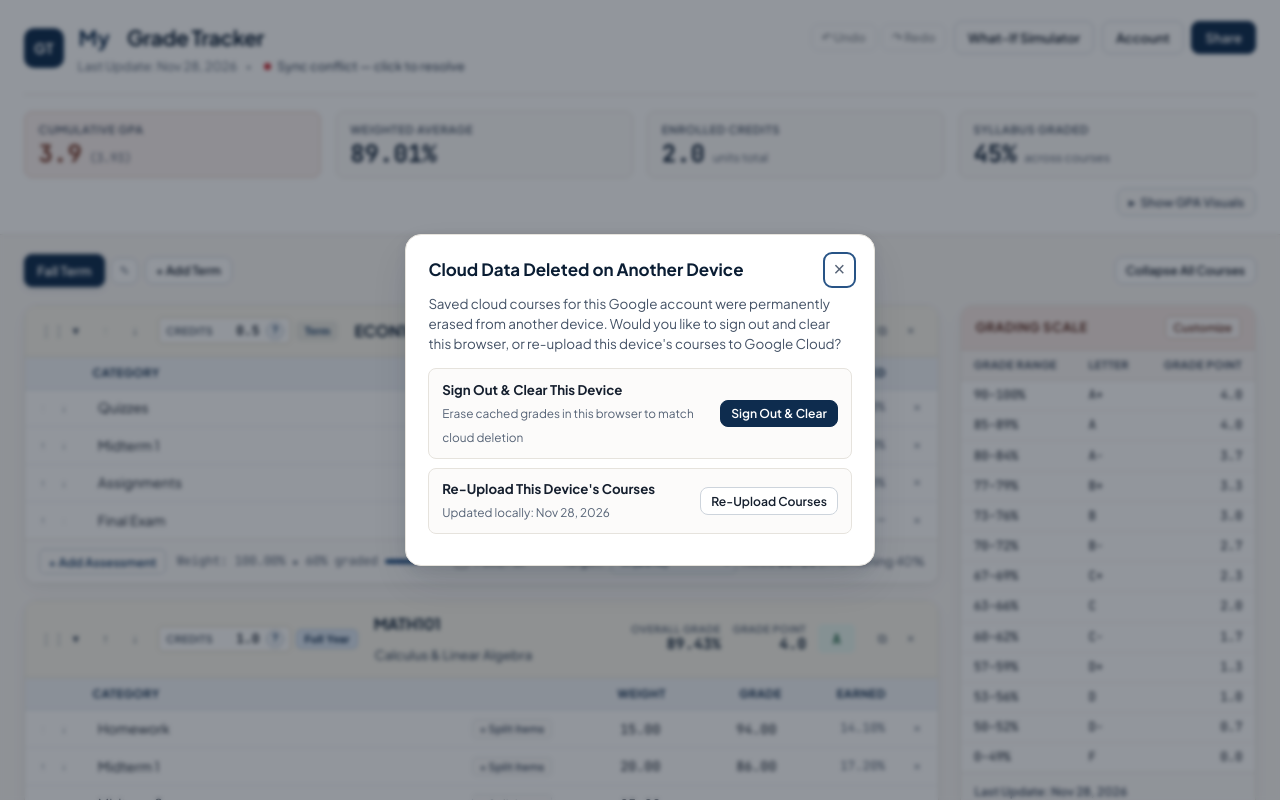
Scenario: Grade Tracker React Application (M1 + M1.1 + Firebase Cloud Sync) › keeps SyncConflictModal mounted inside <App /> and displays inline error when resolveConflict fails in flight (Cluster 2 QA)
Expected: the heading "Cloud Data Deleted on Another Device" is shown, 428,257 -> 744,283
Click the button "Re-Upload Courses" at [769, 501], box 700,487 -> 838,515
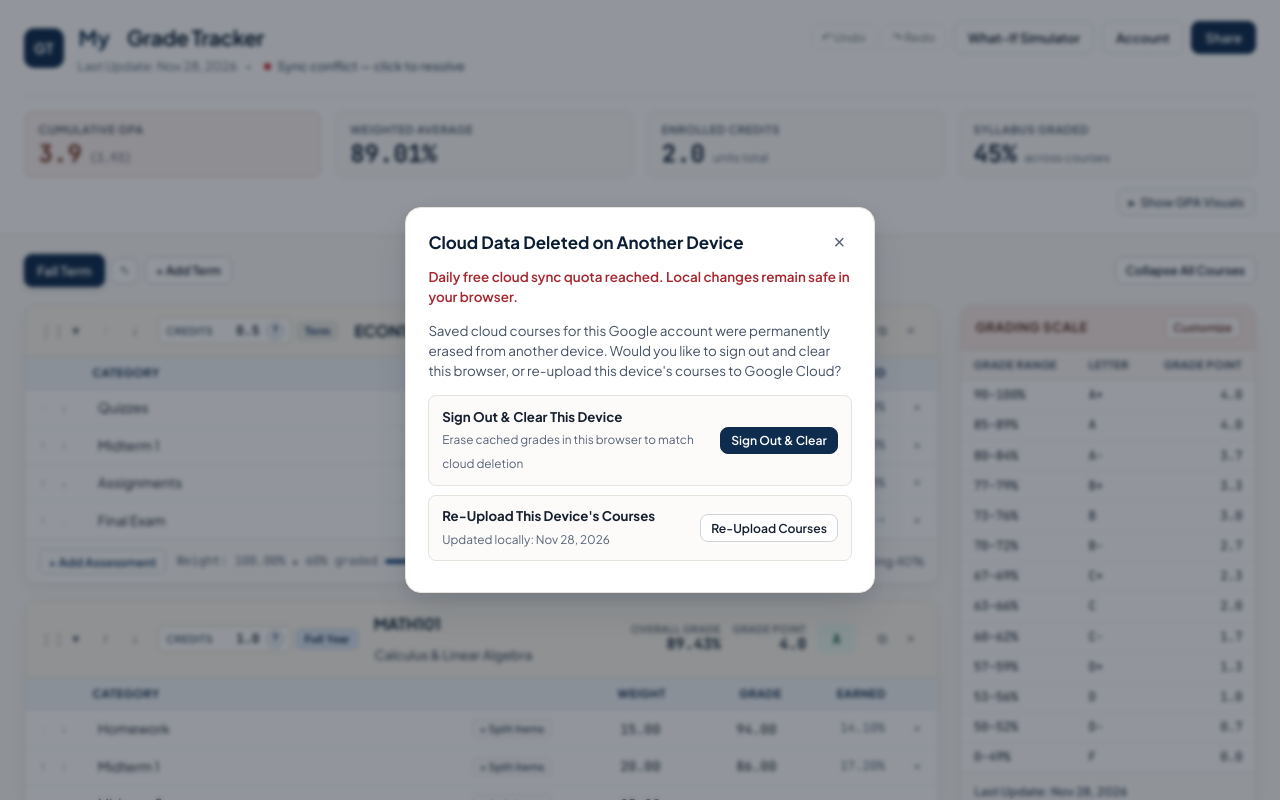
Expected: the heading "Cloud Data Deleted on Another Device" is shown, 428,230 -> 744,256
Now the message shows "Daily free cloud sync quota reached", box 428,268 -> 850,305
